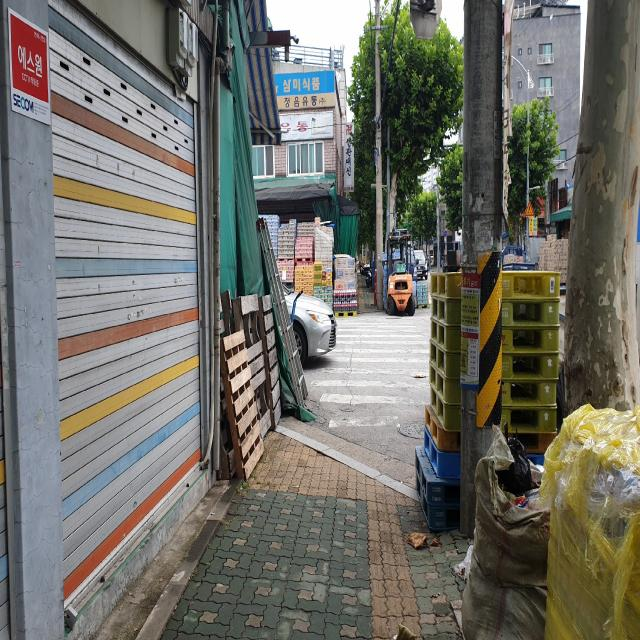횡단보도: (310, 312, 430, 429)
